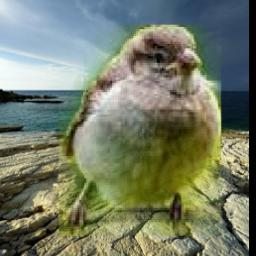Sparrow: (59, 25, 221, 236)
